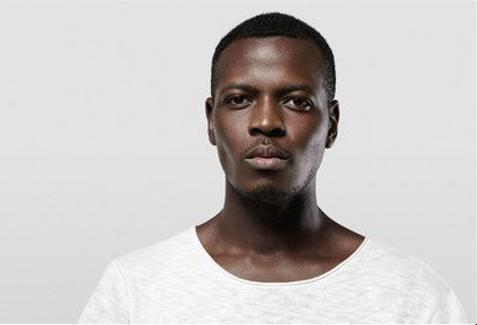Sober: (216, 48, 328, 178)
